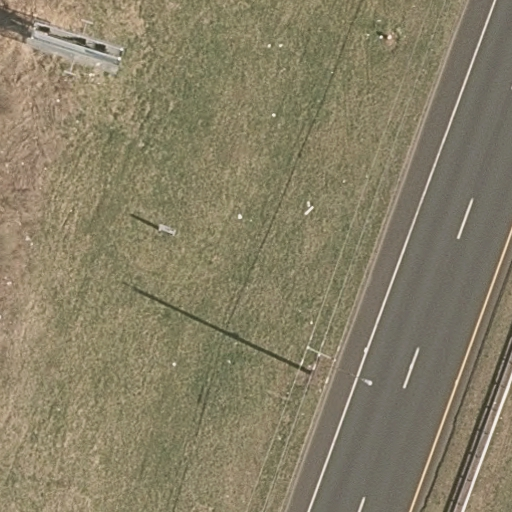DT: (297, 339, 337, 381)
